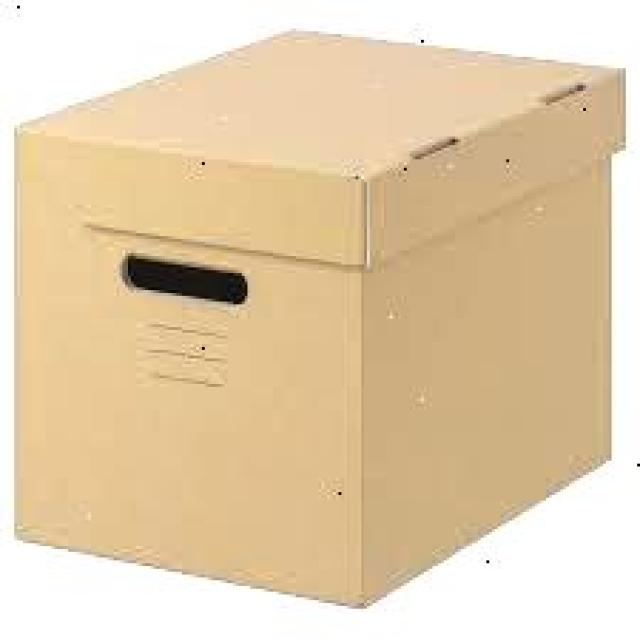box: (13, 29, 628, 610)
normal_hole: (119, 253, 248, 308)
